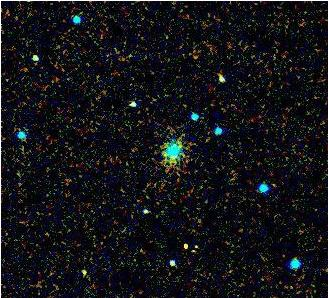star: (67, 258, 97, 288)
